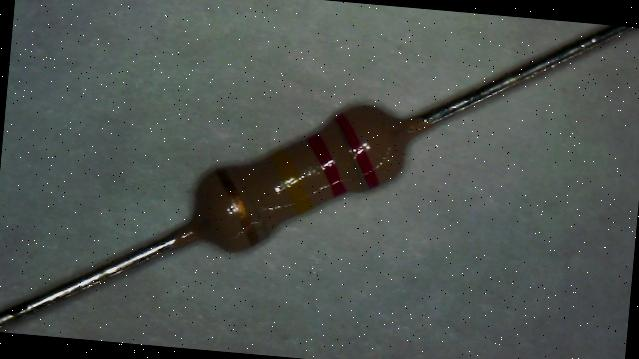gold: (212, 169, 264, 244)
red: (342, 112, 380, 181), (309, 128, 347, 197)
resistor: (166, 65, 445, 280)
yellow: (268, 148, 316, 214)
